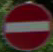No entry: (4, 6, 51, 47)
